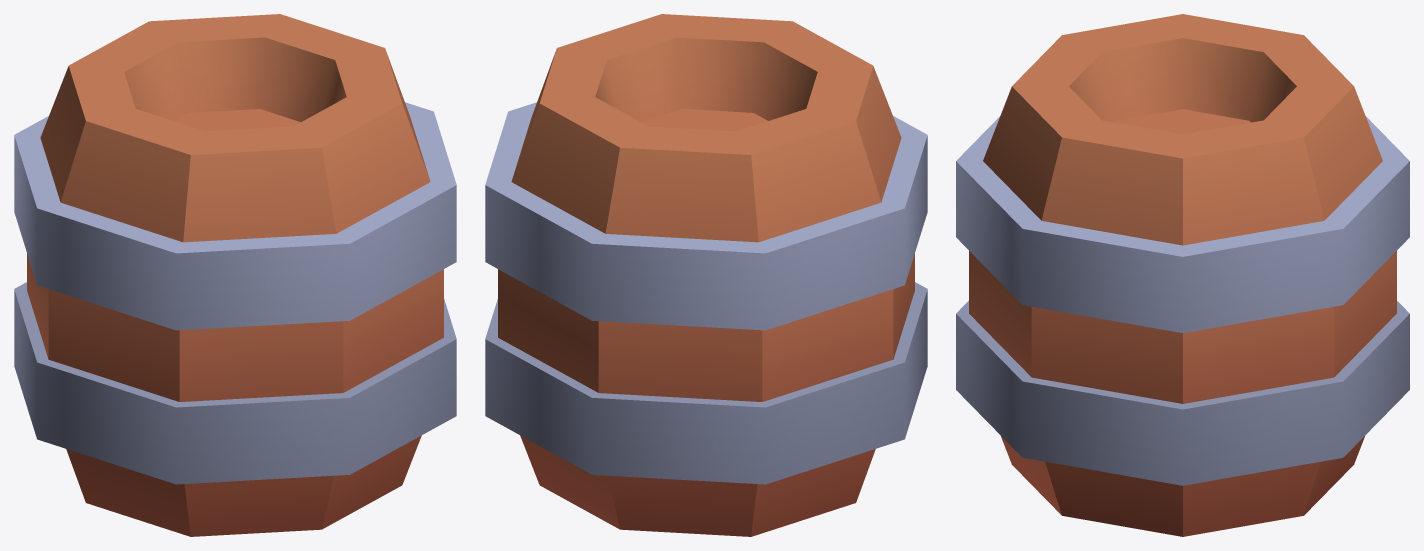
Rendered from barrel.022_lev4.glb.
3 views of the same model, side by side, from view 1: azimuth 30°, elevation 25°; view 2: azimuth 150°, elevation 25°; view 3: azimuth 270°, elevation 25° (orthographic).
Visible parts, largest first — view 1: barrel.022_lev4; view 2: barrel.022_lev4; view 3: barrel.022_lev4.
Part boxes in pixels (box(x1,y1,x2,y2)): barrel.022_lev4: box(14, 14, 456, 536); barrel.022_lev4: box(485, 14, 927, 536); barrel.022_lev4: box(956, 14, 1409, 536).
Size of the model in its own units: 1.34 by 1.23 by 1.34.
1 material, 1 textured.
